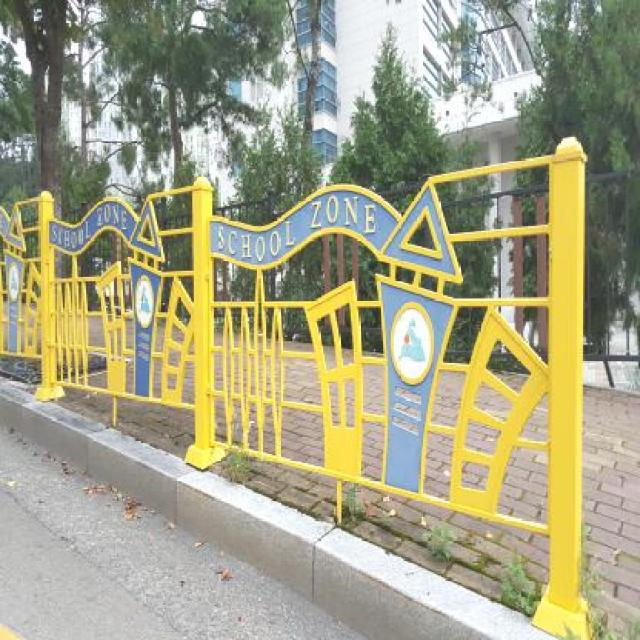fence: (180, 171, 583, 634), (0, 167, 253, 468)
